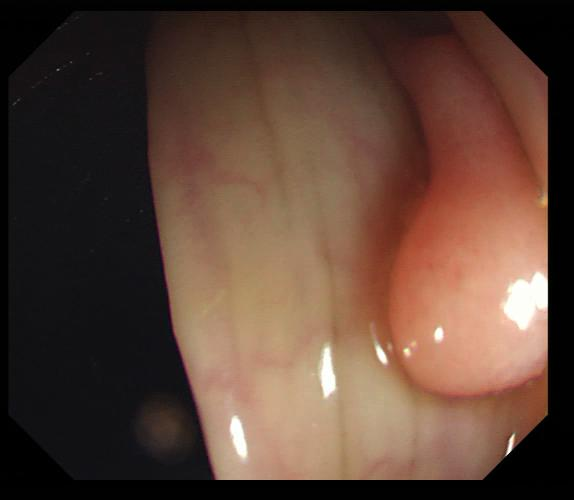polyp: (385, 36, 549, 402)
